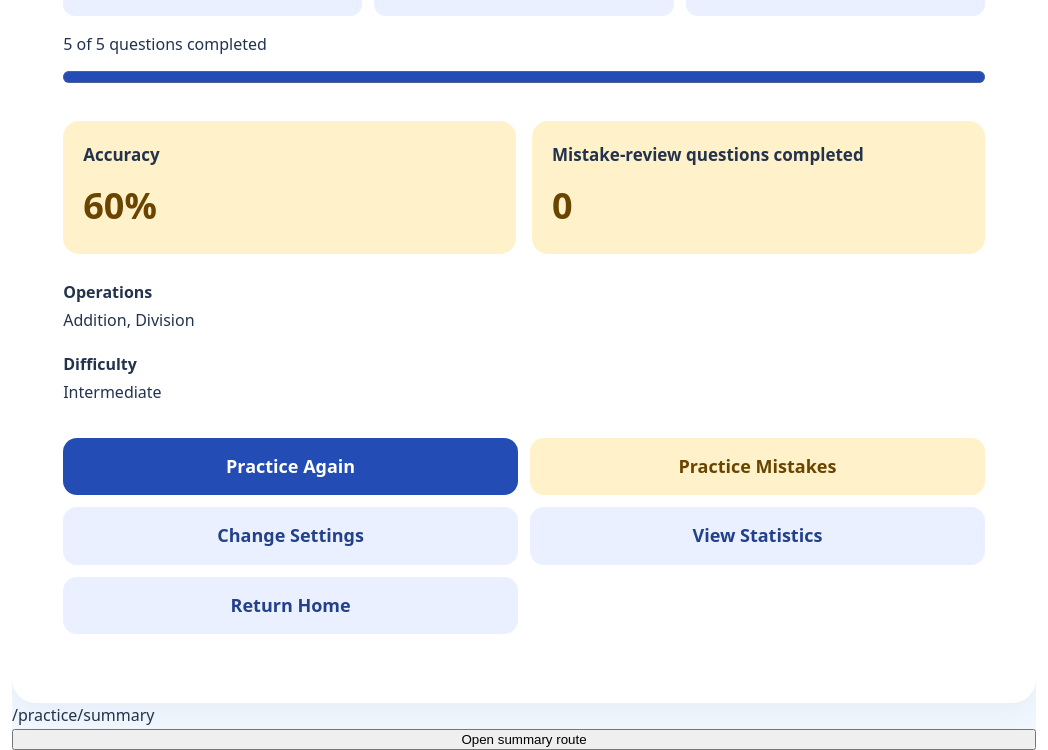
Test: summary details and actions › Practice Again transfers a copy of the completed configuration
(page scrolled)
Click the button "Practice Again" at (291, 467), box x1=63 y1=438 x2=518 y2=495
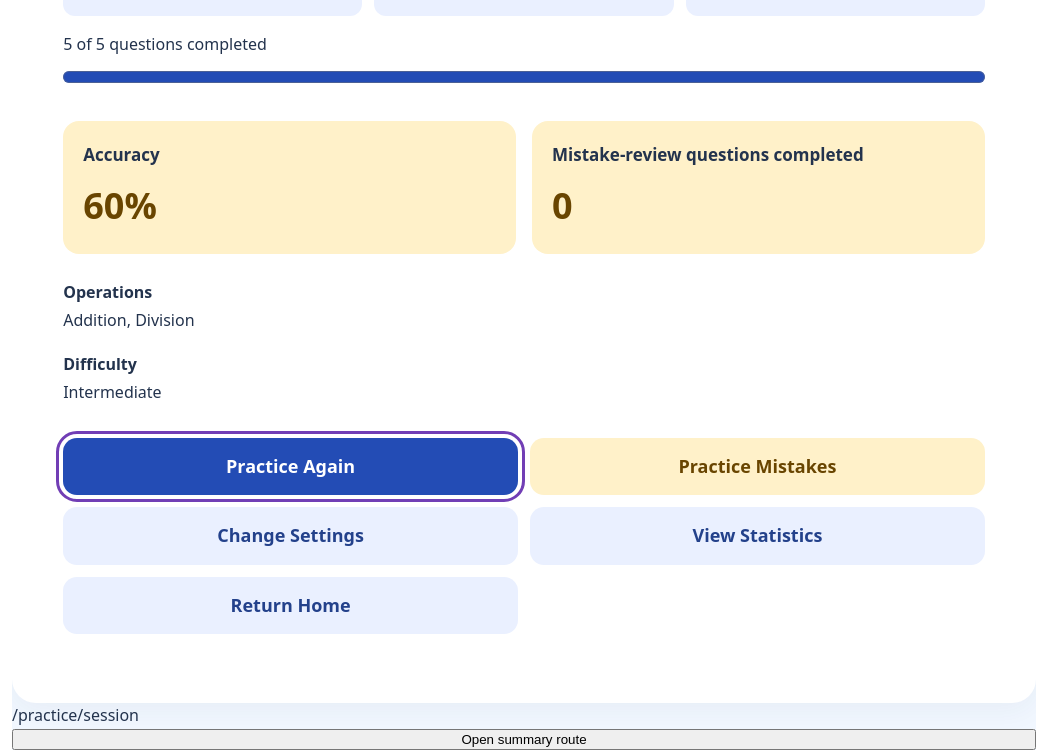
Expected: the text named "Current route" reads "/practice/session", x1=12 y1=704 x2=139 y2=726
